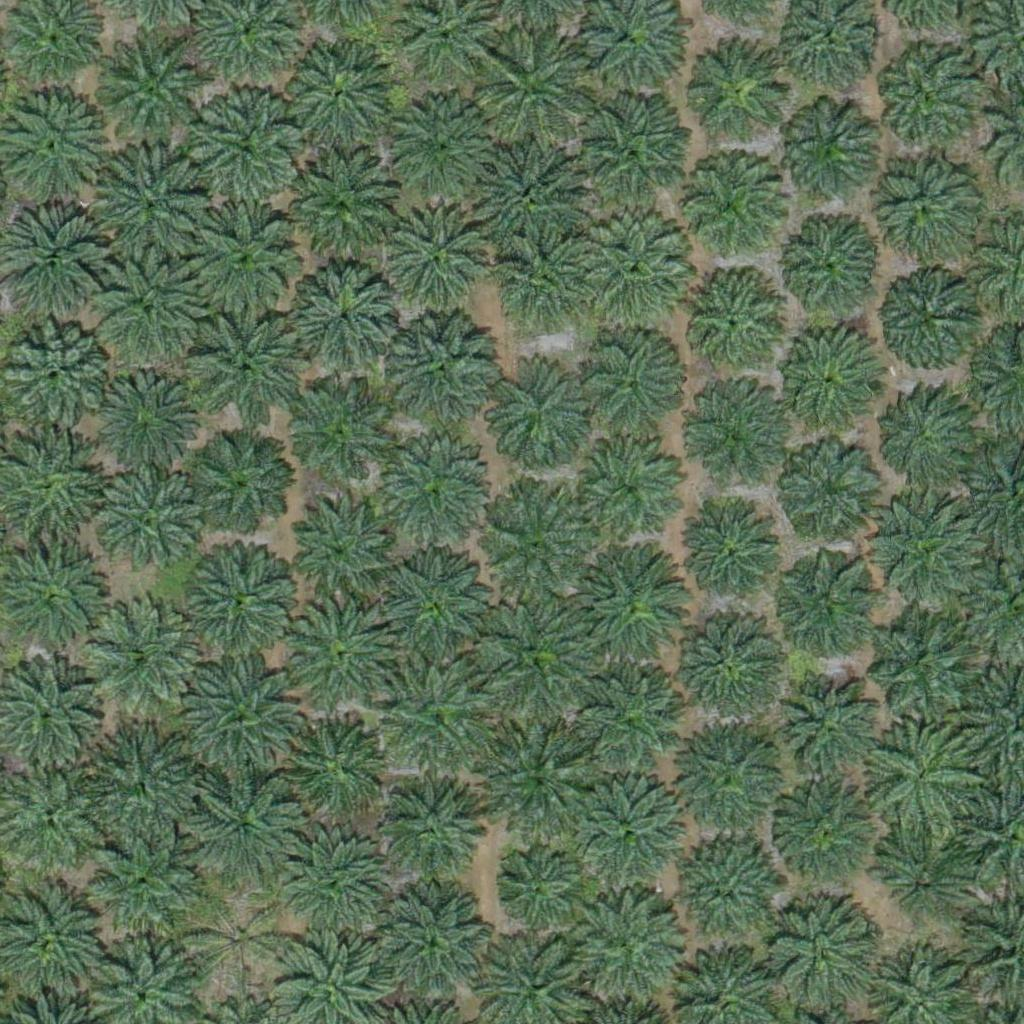Kelapa_Sawit: (567, 212, 692, 338), (563, 664, 688, 790), (477, 721, 602, 847), (868, 146, 981, 260), (577, 434, 690, 548), (481, 356, 594, 470), (570, 547, 683, 661), (282, 596, 395, 710), (377, 886, 490, 1000), (479, 26, 592, 139), (471, 139, 584, 252), (380, 204, 493, 317), (99, 38, 212, 151), (93, 151, 206, 264), (92, 259, 205, 372), (186, 202, 299, 315), (872, 493, 985, 606), (478, 491, 591, 604), (291, 496, 404, 609), (184, 542, 297, 655), (190, 317, 303, 430), (86, 362, 199, 475), (769, 782, 882, 895), (764, 904, 877, 1017), (671, 612, 784, 725), (672, 725, 785, 838), (86, 826, 199, 939), (80, 728, 193, 841), (380, 656, 493, 769), (575, 323, 687, 437), (387, 311, 499, 425), (86, 597, 198, 711), (186, 657, 298, 771), (281, 834, 393, 948), (680, 272, 792, 385), (677, 152, 789, 265), (575, 90, 687, 203), (280, 36, 392, 149), (287, 154, 399, 267), (192, 89, 304, 202), (290, 267, 402, 380), (674, 381, 786, 494), (282, 384, 394, 497), (378, 445, 490, 558), (382, 547, 494, 660), (95, 471, 207, 584), (1, 320, 113, 433), (869, 612, 981, 725), (670, 843, 782, 956), (571, 779, 683, 892), (570, 890, 682, 1003), (479, 601, 591, 714), (188, 769, 300, 882), (189, 891, 289, 992), (878, 45, 978, 146), (391, 95, 491, 196), (877, 387, 977, 488), (777, 327, 877, 428), (783, 437, 883, 538), (192, 434, 292, 535), (872, 729, 972, 830), (878, 823, 978, 924), (772, 559, 872, 660), (783, 676, 883, 777), (889, 267, 989, 367), (778, 100, 878, 200), (779, 219, 879, 319), (694, 43, 794, 143), (685, 508, 785, 608), (284, 718, 384, 818), (383, 776, 483, 876), (497, 852, 572, 928), (500, 243, 575, 318)
